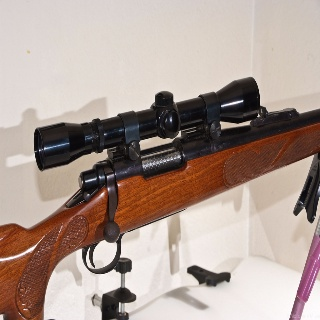rifle: (1, 75, 320, 320)
